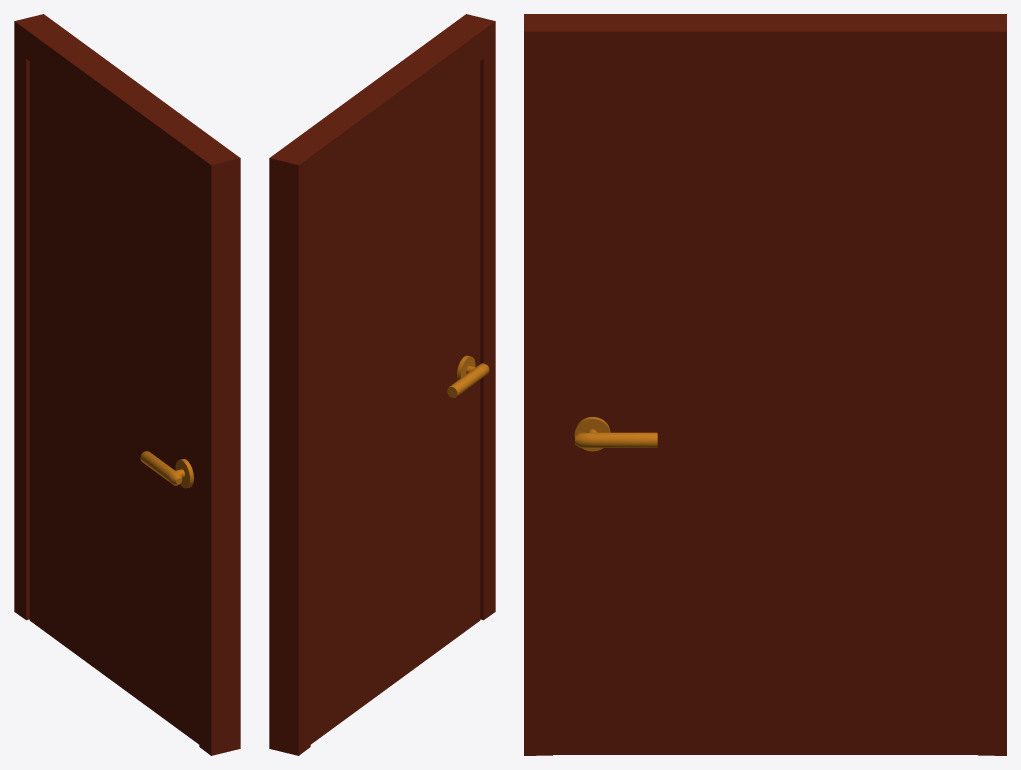
The model's file is Bdoor02.fbx.
3 views of the same model, side by side, from view 1: azimuth 30°, elevation 25°; view 2: azimuth 150°, elevation 25°; view 3: azimuth 270°, elevation 25° (orthographic). The views are drawn at different scales.
Visible parts, largest first — view 1: Bwall4x009, Box034, Cylinder019; view 2: Bwall4x009, Box034, Cylinder019; view 3: Bwall4x009, Box034, Cylinder019.
Boxes of the visible parts, box(x1,y1,x2,y2) form: Bwall4x009: box(29, 61, 199, 744); Box034: box(14, 14, 240, 755); Cylinder019: box(140, 451, 184, 485); Bwall4x009: box(310, 61, 480, 744); Box034: box(269, 14, 495, 755); Cylinder019: box(447, 363, 489, 397); Bwall4x009: box(553, 67, 977, 754); Box034: box(524, 14, 1006, 755); Cylinder019: box(575, 429, 657, 447).
Size of the model in its own units: 21.37 by 197 by 119.
